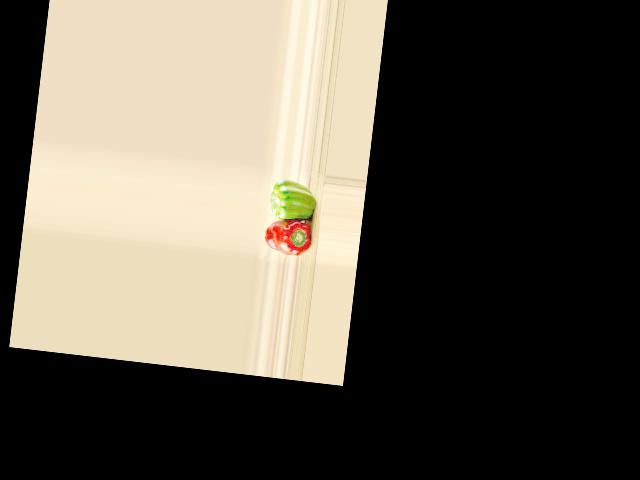bell_pepper: (262, 215, 313, 258)
